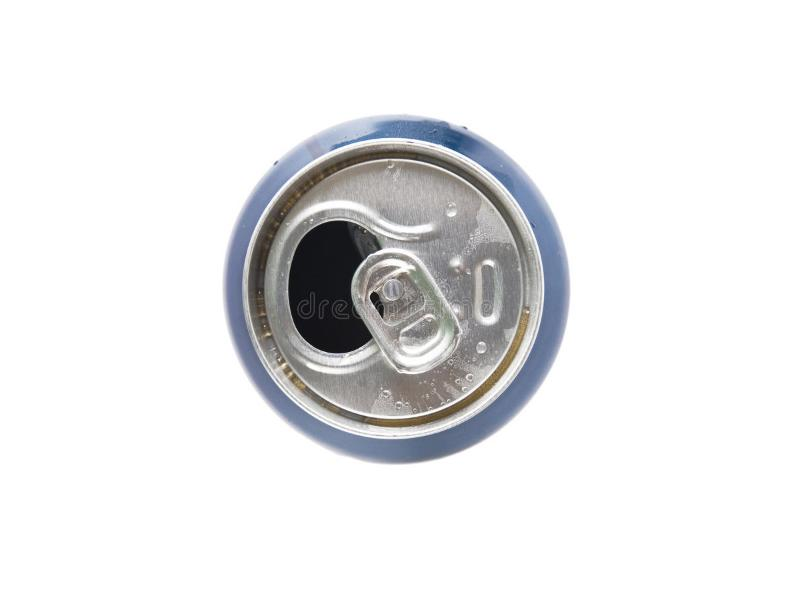can: (212, 102, 583, 475)
